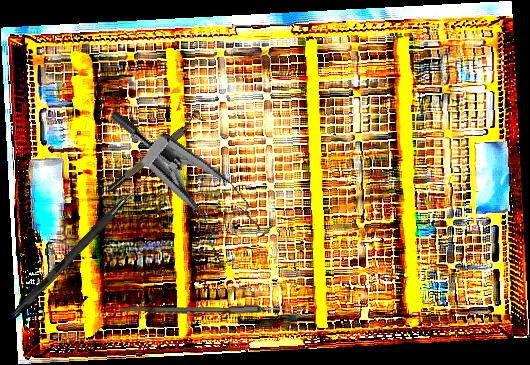Fixation Ring: (103, 108, 207, 195)
Hook Surgical: (10, 165, 157, 321)
Speculum: (73, 108, 289, 277)
Surgical Spoon: (119, 303, 312, 316)
